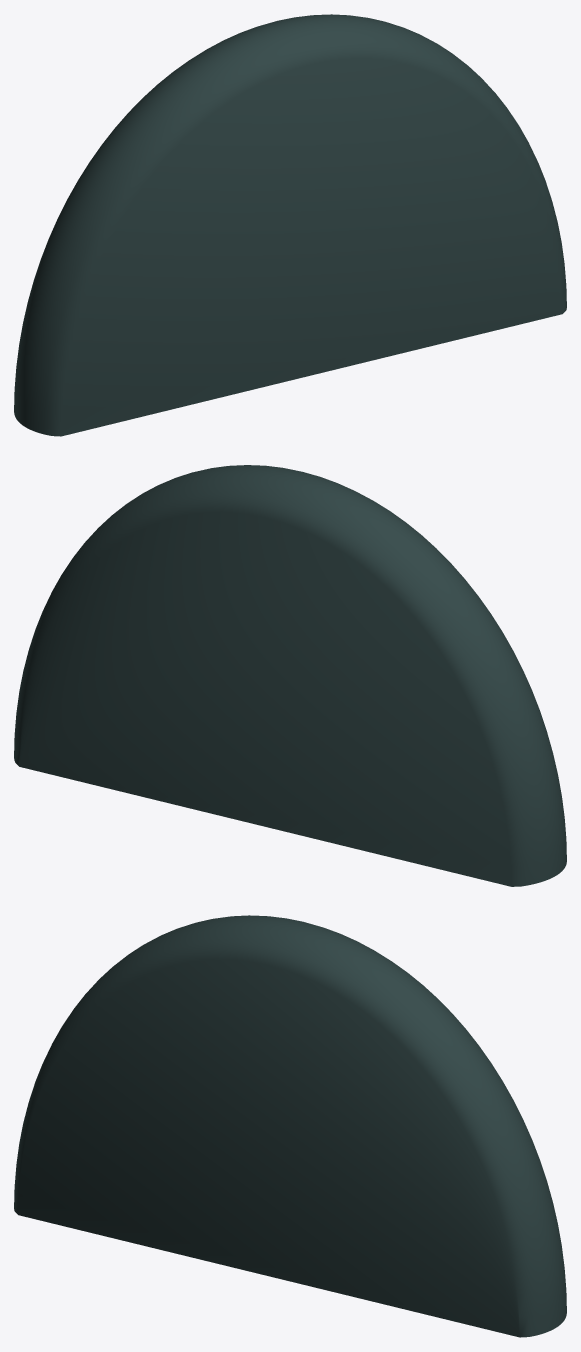
The model's file is borde_frontal.obj.
The picture shows the model from 3 angles, top to bottom: view 1: azimuth 30°, elevation 25°; view 2: azimuth 150°, elevation 25°; view 3: azimuth 330°, elevation 25°; orthographic projection.
Parts seen in each view (by area): view 1: borde_frontal; view 2: borde_frontal; view 3: borde_frontal.
Boxes of the visible parts, <box> form: borde_frontal: <box>14,14,566,436</box>; borde_frontal: <box>14,465,566,886</box>; borde_frontal: <box>14,915,566,1337</box>.
Bounding box in the file's own units: 2.07 × 1.23 × 0.31.
